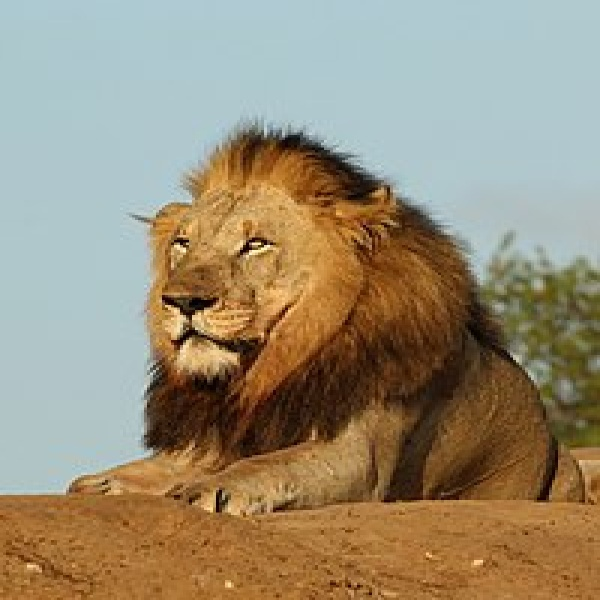Lion: (66, 112, 585, 516)
